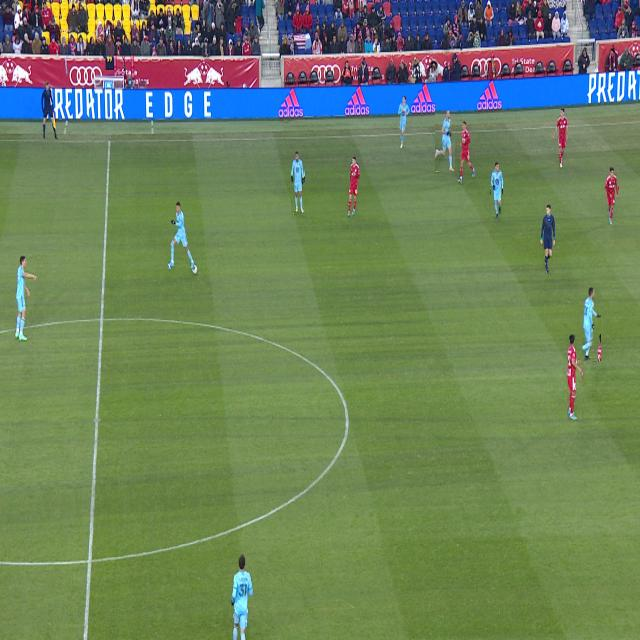football: (192, 265, 197, 275)
player: (231, 554, 253, 640), (15, 256, 37, 341), (169, 202, 194, 269), (579, 288, 601, 361), (568, 334, 582, 420), (435, 111, 455, 171), (458, 121, 475, 182), (553, 107, 568, 168), (347, 156, 360, 217), (292, 152, 304, 213), (606, 167, 618, 225), (491, 163, 503, 218), (398, 96, 410, 149)
referee: (540, 205, 554, 274)
